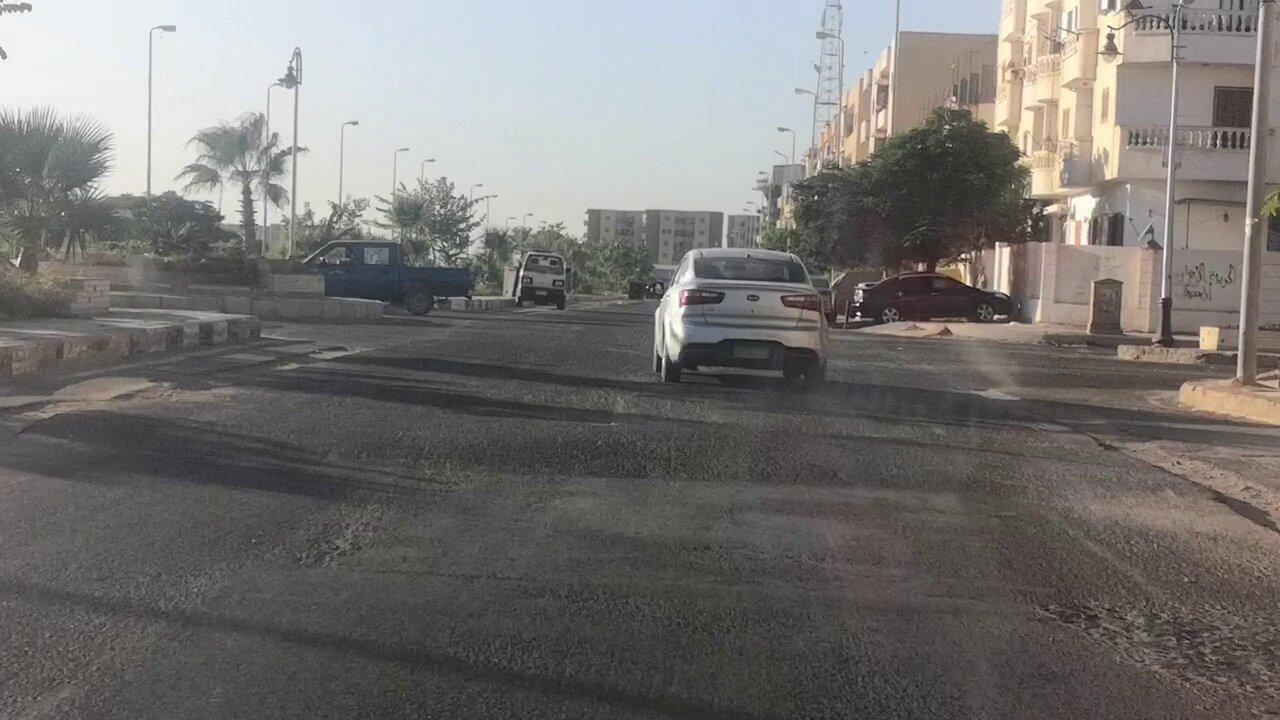Bump: (177, 390, 1182, 490)
